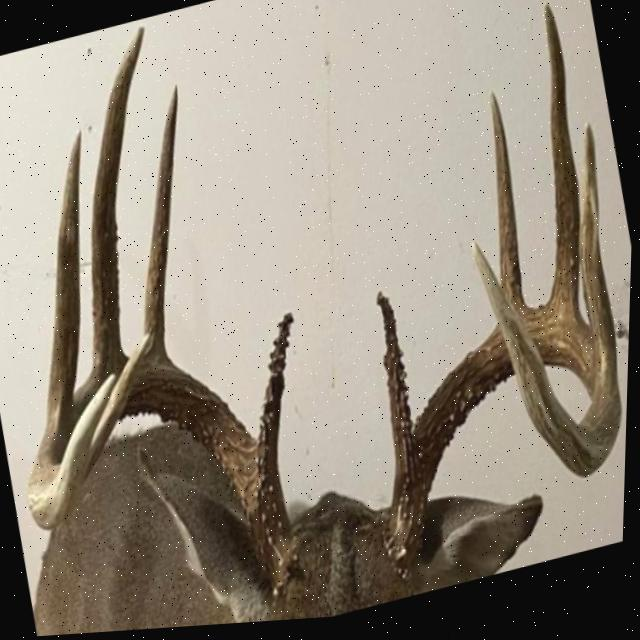L-G1: (260, 316, 297, 459)
L-G2: (145, 85, 179, 359)
L-G3: (93, 26, 145, 368)
L-G4: (50, 131, 82, 426)
R-G1: (378, 295, 417, 454)
R-G3: (544, 9, 582, 323)
R-G4: (581, 126, 620, 422)
